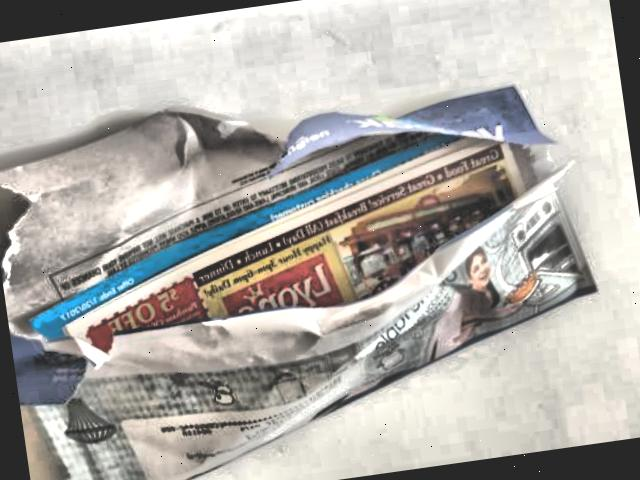Paper: (6, 50, 623, 480)
